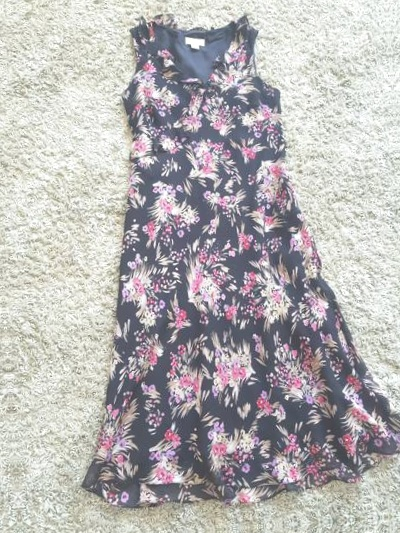Dress: (10, 0, 400, 517)
